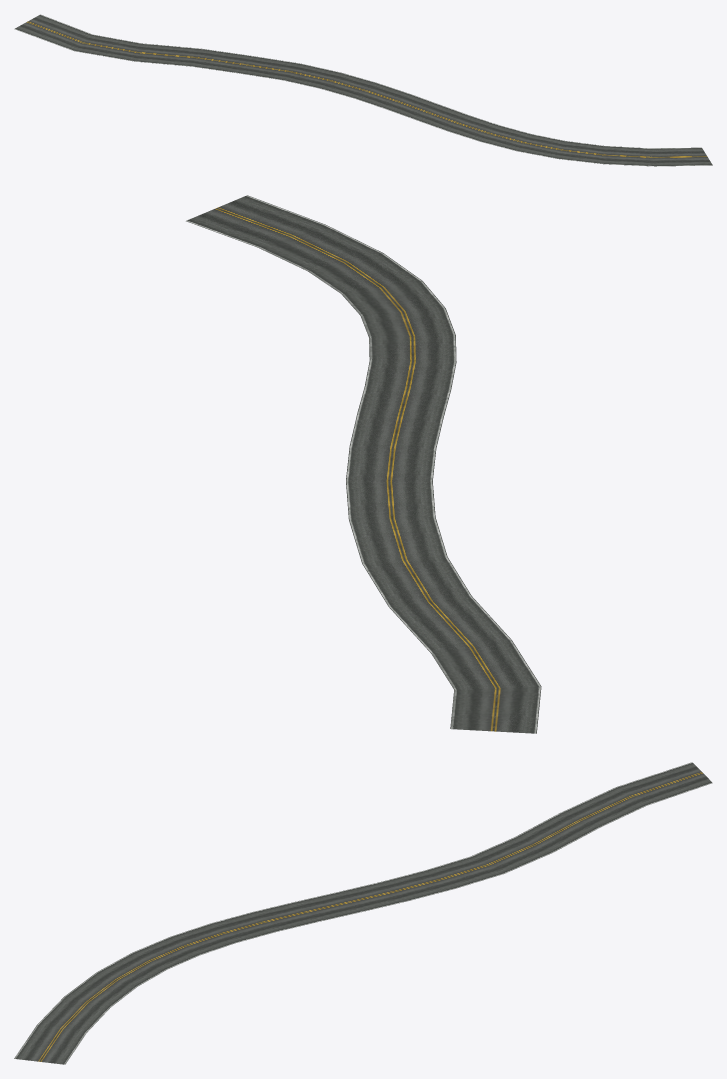
Rendered from cuntwroad56.obj.
The picture shows the model from 3 angles, top to bottom: view 1: azimuth 30°, elevation 25°; view 2: azimuth 150°, elevation 25°; view 3: azimuth 270°, elevation 25°; orthographic projection. The views are drawn at different scales.
Visible parts, largest first — view 1: cuntwroad56; view 2: cuntwroad56; view 3: cuntwroad56.
Boxes of the visible parts, bbox=[...] form: cuntwroad56: bbox=[14, 14, 712, 166]; cuntwroad56: bbox=[186, 195, 541, 733]; cuntwroad56: bbox=[14, 762, 712, 1064].
Size of the model in its own units: 138 by 11.12 by 158.
Materials: 1 (1 with a texture image).
